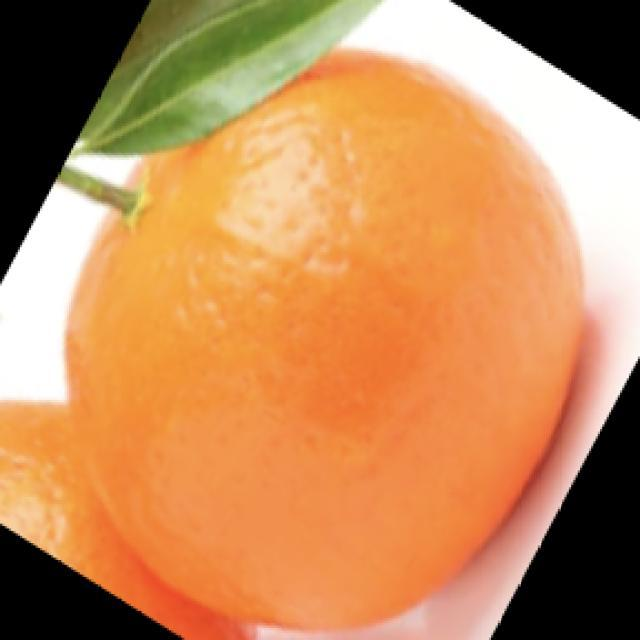Orange: (61, 46, 586, 632)
